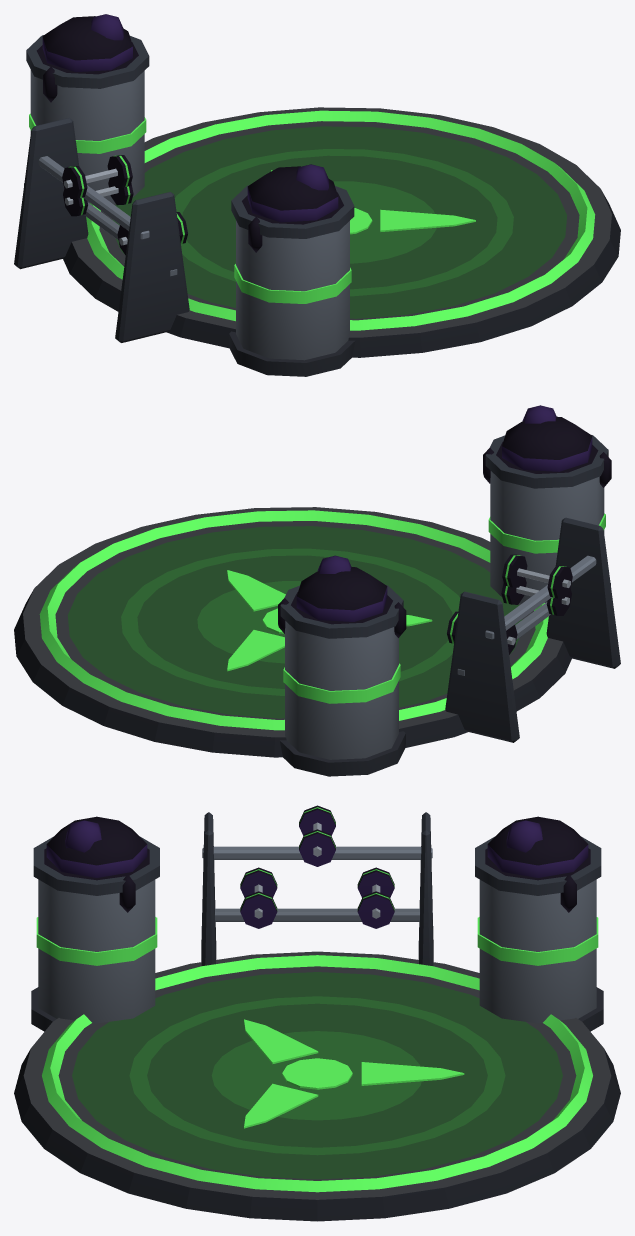
File: train_2.glb
3 views of the same model, one above another, from view 1: azimuth 30°, elevation 25°; view 2: azimuth 150°, elevation 25°; view 3: azimuth 270°, elevation 25° (orthographic). The views are drawn at different scales.
Visible parts, largest first — view 1: Body, Glow; view 2: Body, Glow; view 3: Body, Glow.
Boxes of the visible parts, x1,y1,x2,y2 form: Body: (14, 14, 620, 376); Glow: (29, 110, 595, 330); Body: (14, 405, 620, 776); Glow: (39, 510, 605, 730); Body: (14, 805, 620, 1221); Glow: (36, 917, 598, 1192).
Bounding box in the file's own units: 2.66 × 0.9163 × 2.51.
